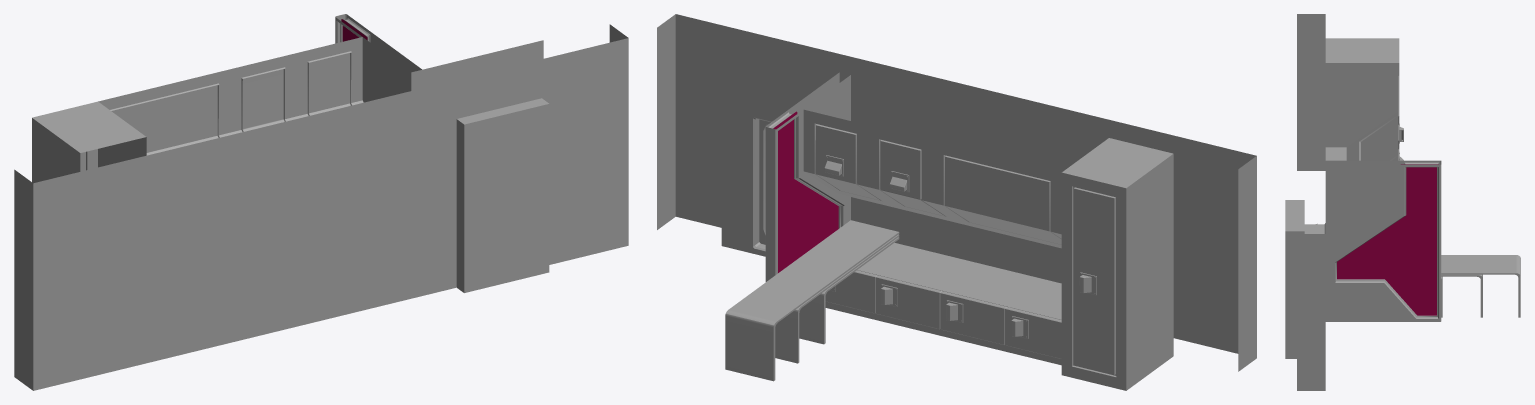
Rendered from m_Apartment_Wall_EntranceKitchen_01.fbx.
3 renders of one model, left to right at view 1: azimuth 30°, elevation 25°; view 2: azimuth 150°, elevation 25°; view 3: azimuth 270°, elevation 25°, orthographic. The views are drawn at different scales.
Parts seen in each view (by area): view 1: polySurface12505, pCube2, polySurface12493, polySurface12494, polySurface12489, polySurface12518, polySurface12525, polySurface12524, polySurface12522, polySurface12523; view 2: polySurface12505, polySurface12494, polySurface12518, polySurface12493, polySurface12504, polySurface12498, polySurface12488, polySurface12489, pCube3, polySurface12523, polySurface12525, polySurface12522 (+8 smaller); view 3: polySurface12489, polySurface12505, pCube3, polySurface12494, pCube2, polySurface12493, polySurface12504, polySurface12503, polySurface12518.
Part boxes in pixels (x1=…): polySurface12505: x1=14, y1=24, x2=628, y2=390; pCube2: x1=456, y1=98, x2=549, y2=292; polySurface12493: x1=98, y1=69, x2=231, y2=155; polySurface12494: x1=32, y1=101, x2=146, y2=183; polySurface12489: x1=335, y1=14, x2=421, y2=102; polySurface12518: x1=411, y1=40, x2=543, y2=90; polySurface12525: x1=296, y1=37, x2=363, y2=118; polySurface12524: x1=309, y1=53, x2=351, y2=115; polySurface12522: x1=243, y1=69, x2=285, y2=131; polySurface12523: x1=230, y1=53, x2=297, y2=134; polySurface12505: x1=657, y1=14, x2=1256, y2=371; polySurface12494: x1=1061, y1=138, x2=1173, y2=390; polySurface12518: x1=721, y1=43, x2=850, y2=256; polySurface12493: x1=932, y1=141, x2=1061, y2=248; polySurface12504: x1=725, y1=220, x2=899, y2=381; polySurface12498: x1=825, y1=242, x2=1061, y2=365; polySurface12488: x1=851, y1=197, x2=1061, y2=283; polySurface12489: x1=765, y1=72, x2=850, y2=281; pCube3: x1=773, y1=111, x2=838, y2=272; polySurface12523: x1=868, y1=125, x2=965, y2=224; polySurface12525: x1=803, y1=109, x2=901, y2=209; polySurface12522: x1=880, y1=140, x2=944, y2=215; polySurface12489: x1=1325, y1=160, x2=1441, y2=321; polySurface12505: x1=1297, y1=14, x2=1325, y2=390; pCube3: x1=1337, y1=164, x2=1438, y2=315; polySurface12494: x1=1325, y1=38, x2=1399, y2=147; pCube2: x1=1285, y1=200, x2=1304, y2=358; polySurface12493: x1=1325, y1=76, x2=1399, y2=160; polySurface12504: x1=1441, y1=255, x2=1520, y2=317; polySurface12503: x1=1441, y1=274, x2=1482, y2=317; polySurface12518: x1=1304, y1=223, x2=1325, y2=233.
Bounding box in the file's own units: 900 × 300 × 407.
